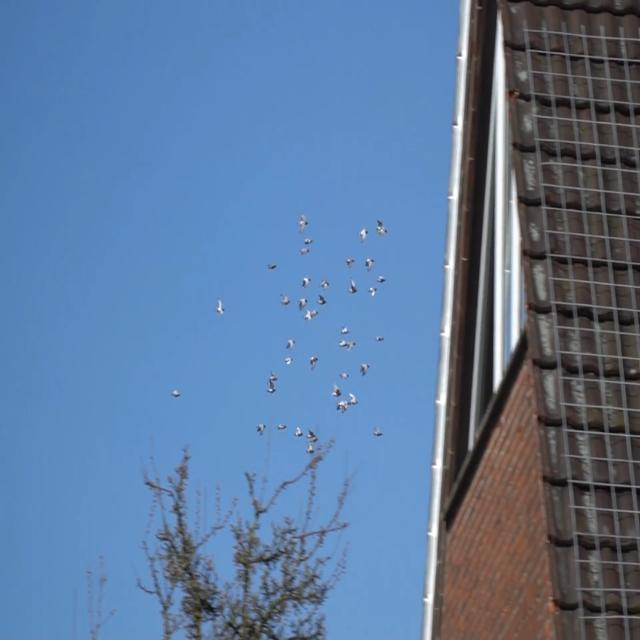bird: (329, 382, 342, 400), (214, 295, 225, 316), (297, 214, 308, 234), (336, 399, 349, 415), (357, 227, 369, 244), (346, 277, 358, 294), (372, 424, 384, 440), (300, 276, 312, 291), (316, 293, 328, 308), (364, 256, 376, 270), (279, 292, 290, 307), (265, 379, 276, 394), (348, 393, 358, 409), (367, 284, 378, 298), (309, 354, 318, 370), (298, 298, 308, 312), (360, 362, 370, 376), (255, 422, 266, 434), (284, 337, 294, 350), (346, 338, 356, 351), (302, 310, 313, 321), (171, 388, 182, 399), (376, 218, 384, 232), (299, 246, 310, 256), (377, 273, 387, 284), (309, 436, 320, 446), (345, 256, 354, 268), (374, 334, 386, 343), (338, 337, 347, 349), (269, 370, 278, 382), (305, 443, 314, 455), (284, 356, 294, 366), (266, 263, 277, 272), (320, 280, 331, 289), (338, 371, 349, 380), (340, 324, 348, 336), (277, 422, 286, 432), (305, 429, 314, 439), (310, 308, 319, 318), (304, 237, 314, 245), (294, 427, 302, 437), (377, 229, 388, 236)
